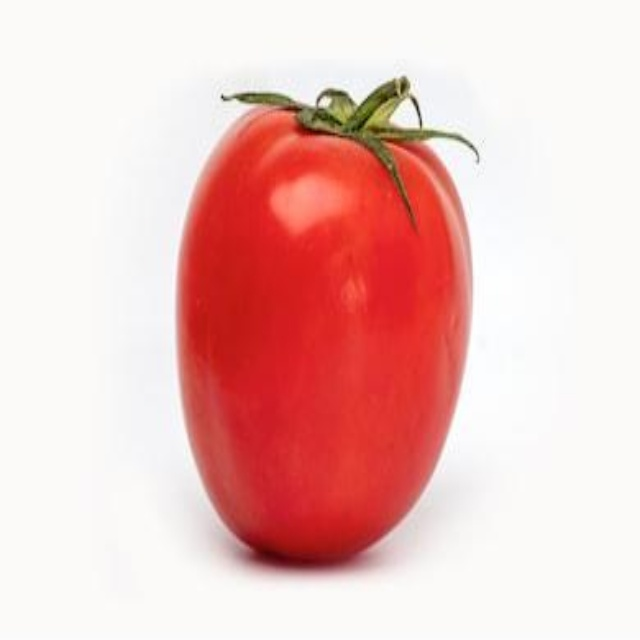tomato: (157, 65, 502, 562)
